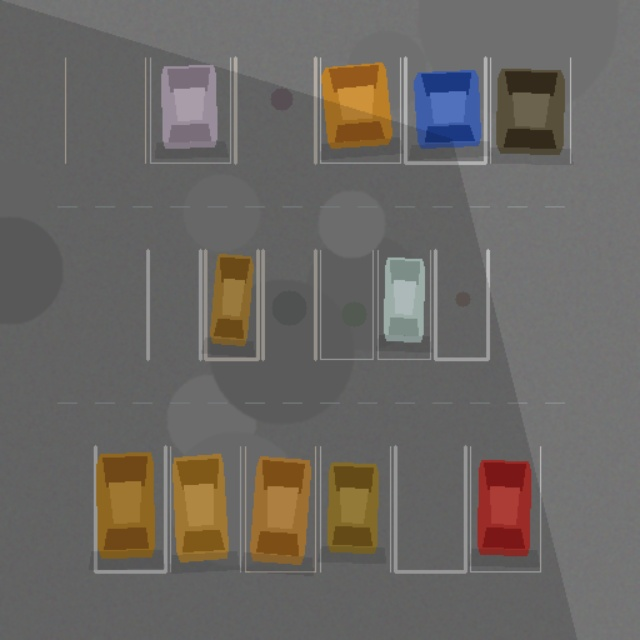space-empty: (395, 446, 465, 571), (65, 58, 145, 162), (235, 58, 315, 162), (147, 250, 200, 359), (320, 250, 373, 359), (263, 250, 315, 359), (435, 250, 487, 359)
space-occupied: (95, 446, 165, 571), (170, 446, 240, 571), (245, 446, 315, 571), (320, 446, 390, 571), (470, 446, 540, 571), (150, 58, 230, 162), (320, 58, 400, 162), (405, 58, 485, 162), (490, 58, 570, 162), (377, 250, 430, 359), (205, 250, 257, 359)
